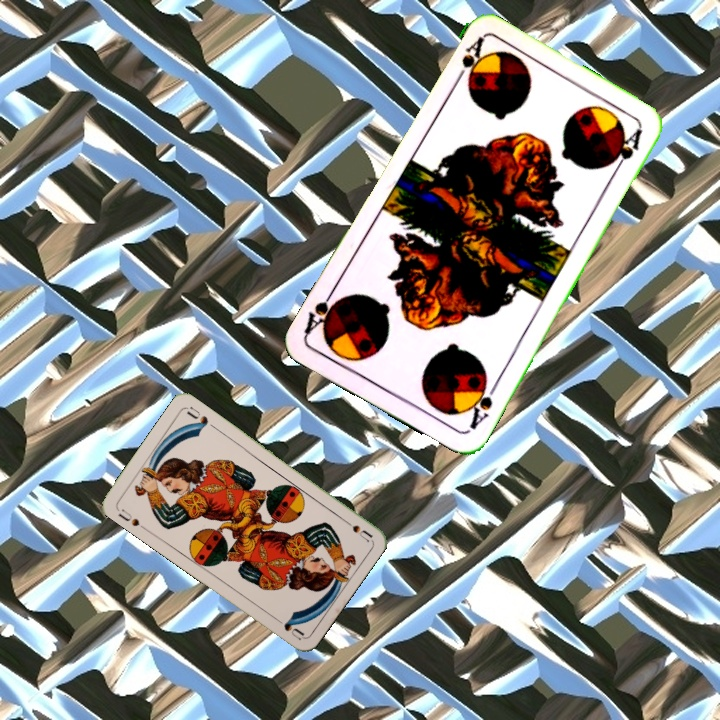SA: (464, 374, 501, 432), (449, 34, 486, 89)
SU: (337, 514, 375, 544), (114, 505, 149, 532)
